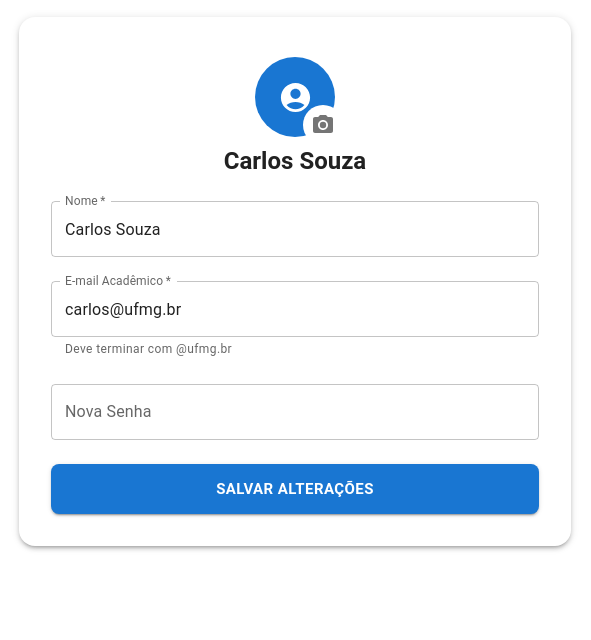
Test: Perfil — fluxo de atualização de dados › exibe mensagem de sucesso após atualização
Click the button "Salvar Alterações" at (295, 489), box [51,464,539,514]
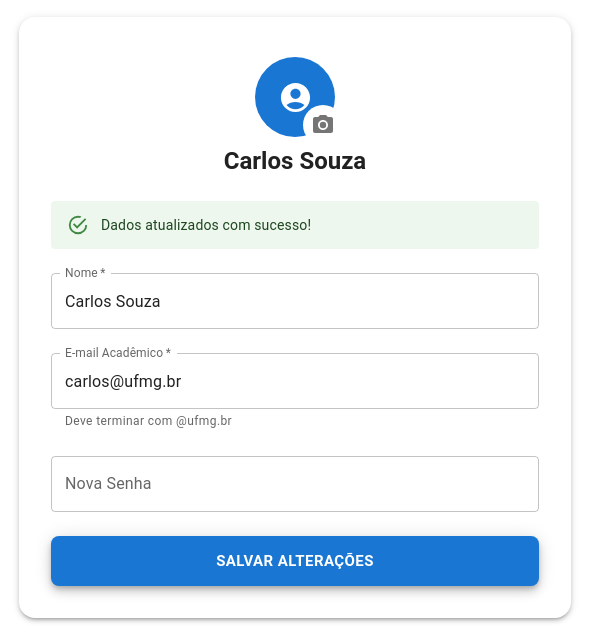
Expected: the message "Dados atualizados com sucesso!" is shown, [51,201,539,249]
Expected: the text "Dados atualizados com sucesso!" is shown, [101,217,311,233]
